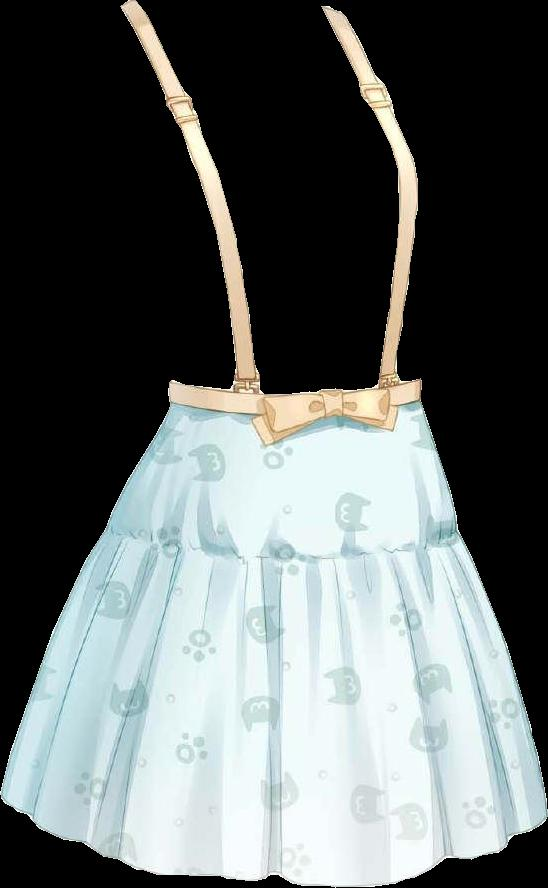Hemline: (0, 790, 547, 887)
Waistline: (103, 525, 459, 559), (165, 399, 425, 424), (168, 375, 425, 399)
